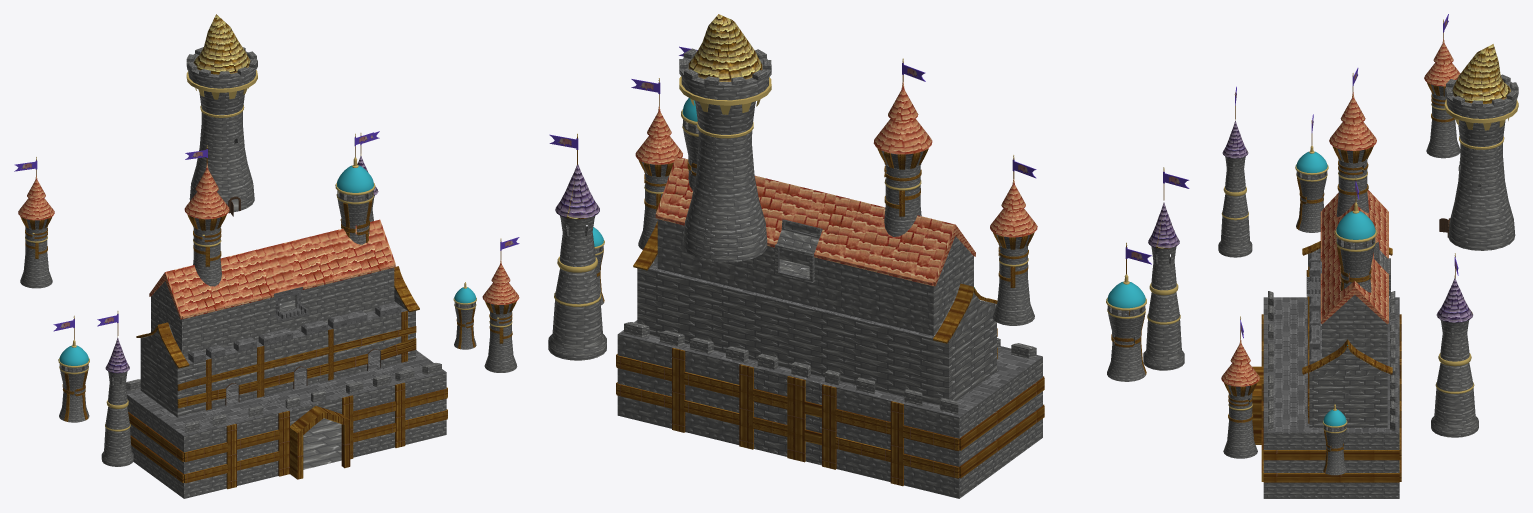
The model's file is SM_Towers_And_Castle.fbx.
The picture shows the model from 3 angles, left to right: view 1: azimuth 30°, elevation 25°; view 2: azimuth 150°, elevation 25°; view 3: azimuth 270°, elevation 25°; orthographic projection. The views are drawn at different scales.
Parts seen in each view (by area): view 1: SM_castle_Level_1_01, SM_Castle_level_03_01, SM_castle_level_2_01, SM_Herberts_tower_01, SM_Tower_Double_roof_06, SM_Tower_Simple_02, SM_Tower_Double_roof_05, SM_Tower_Double_roof_01, SM_Tower_Round_roof5, SM_Tower_Round_roof, SM_Tower_Round_roof4, SM_House_Roof_03; view 2: SM_castle_Level_1_01, SM_Castle_level_03_01, SM_castle_level_2_01, SM_Herberts_tower_01, SM_Tower_Simple_01, SM_Tower_Double_roof_06, SM_Tower_Simple_02, SM_Tower_Double_roof_05, SM_Tower_Round_roof, SM_Tower_Double_roof_01, SM_House_Roof_03, SM_Tower_Round_roof5; view 3: SM_castle_Level_1_01, SM_Herberts_tower_01, SM_Castle_level_03_01, SM_castle_level_2_01, SM_Tower_Simple_01, SM_Tower_Double_roof_06, SM_Tower_Simple_02, SM_Tower_Double_roof_01, SM_Tower_Round_roof5, SM_Tower_Double_roof_05, SM_Tower_Round_roof, SM_Tower_Round_roof4 (+1 smaller).
Part boxes in pixels (x1,y1,x2,y2): SM_castle_Level_1_01: (126,349,447,498); SM_Castle_level_03_01: (149,219,395,356); SM_castle_level_2_01: (140,287,416,417); SM_Herberts_tower_01: (186,14,257,216); SM_Tower_Double_roof_06: (184,163,229,286); SM_Tower_Simple_02: (101,336,133,466); SM_Tower_Double_roof_05: (18,175,54,288); SM_Tower_Double_roof_01: (482,260,519,372); SM_Tower_Round_roof5: (335,157,375,244); SM_Tower_Round_roof: (58,340,89,422); SM_Tower_Round_roof4: (453,282,476,349); SM_House_Roof_03: (136,322,189,368); SM_castle_Level_1_01: (616,320,1044,498); SM_Castle_level_03_01: (655,156,975,335); SM_castle_level_2_01: (637,254,997,404); SM_Herberts_tower_01: (679,14,771,262); SM_Tower_Simple_01: (548,164,606,360); SM_Tower_Double_roof_06: (873,82,932,236); SM_Tower_Simple_02: (1143,202,1184,370); SM_Tower_Double_roof_05: (990,179,1037,325); SM_Tower_Round_roof: (1106,274,1146,381); SM_Tower_Double_roof_01: (635,106,682,249); SM_House_Roof_03: (933,283,997,343); SM_Tower_Round_roof5: (681,98,698,190); SM_castle_Level_1_01: (1252,291,1401,498); SM_Herberts_tower_01: (1439,44,1518,250); SM_Castle_level_03_01: (1306,190,1390,364); SM_castle_level_2_01: (1306,248,1387,427); SM_Tower_Simple_01: (1431,275,1478,437); SM_Tower_Double_roof_06: (1329,92,1376,216); SM_Tower_Simple_02: (1218,119,1252,257); SM_Tower_Double_roof_01: (1221,339,1259,458); SM_Tower_Round_roof5: (1334,202,1377,292); SM_Tower_Double_roof_05: (1424,38,1460,158); SM_Tower_Round_roof: (1295,145,1328,232); SM_Tower_Round_roof4: (1322,404,1347,475).
Bounding box in the file's own units: 18854 × 15431 × 10692.
